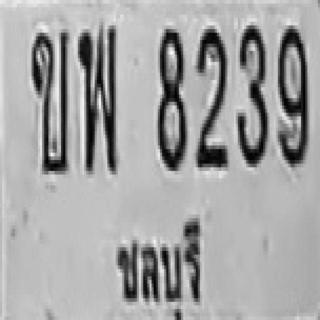A02: (29, 25, 68, 171)
A30: (77, 22, 117, 171)
N02: (195, 24, 226, 165)
N03: (236, 22, 267, 164)
N08: (156, 25, 185, 167)
N09: (276, 22, 307, 164)
P13: (106, 208, 206, 320)
